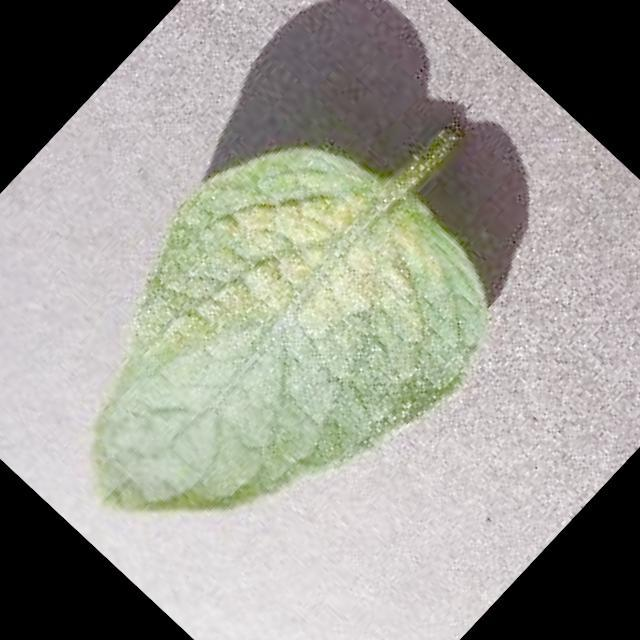Tomato spider mites leaf: (0, 85, 535, 627)
